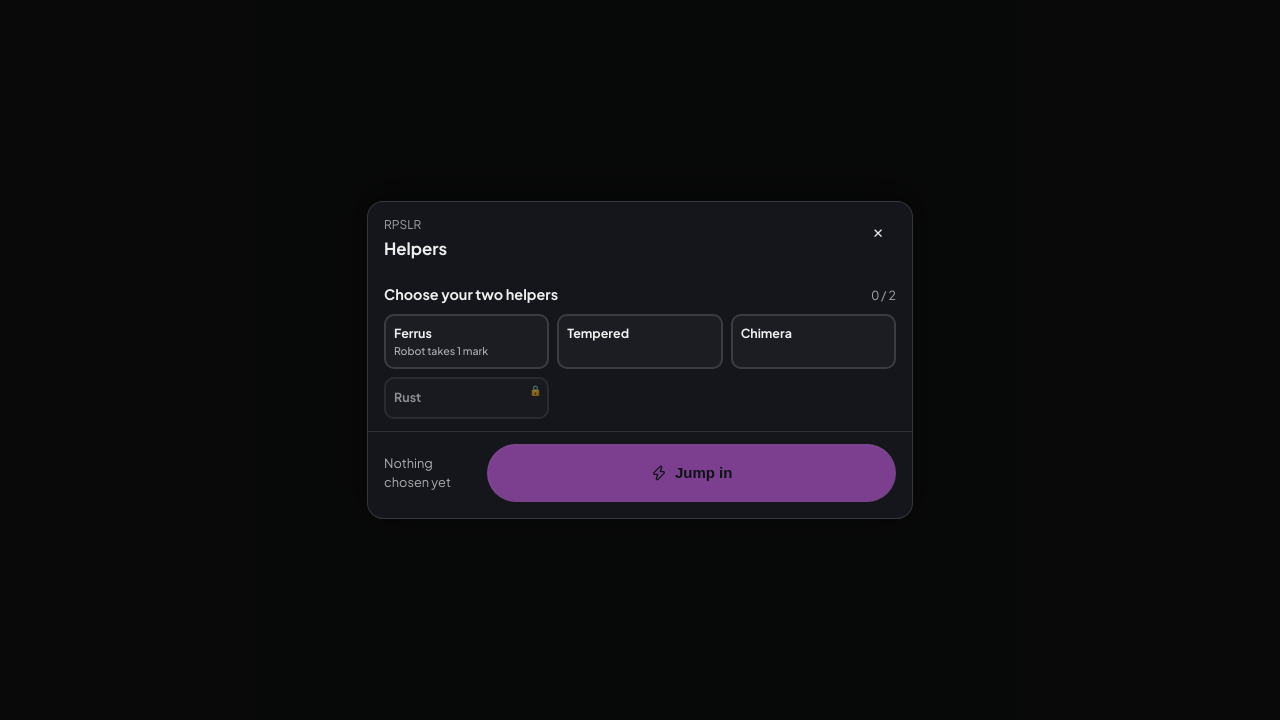
Test: PreQueueOptionsSheet › keeps the join button disabled until the group is satisfied
Expected: the button "Jump in" is disabled, [487, 444, 896, 502]
Click the button "Ferrus Robot takes 1 mark" at (467, 341), box [384, 314, 549, 369]
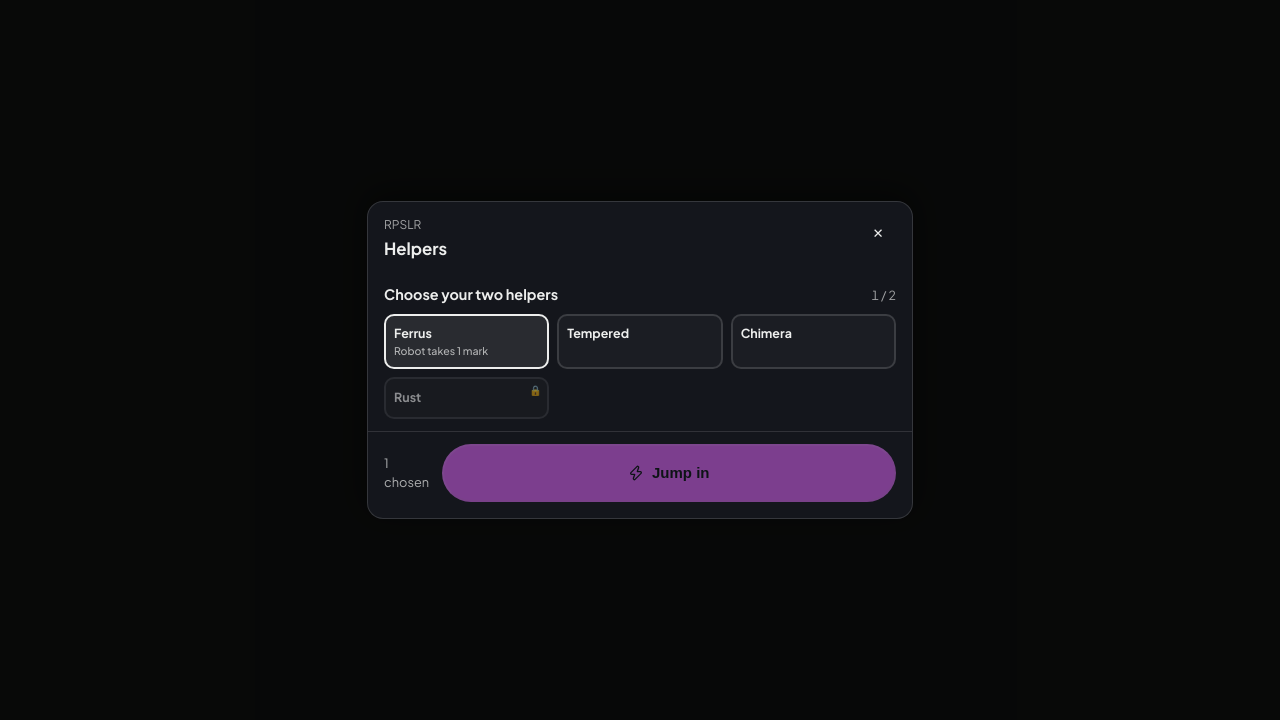
Expected: the button "Jump in" is disabled, [442, 444, 896, 502]
Click the button "Tempered" at (640, 341), box [557, 314, 723, 369]
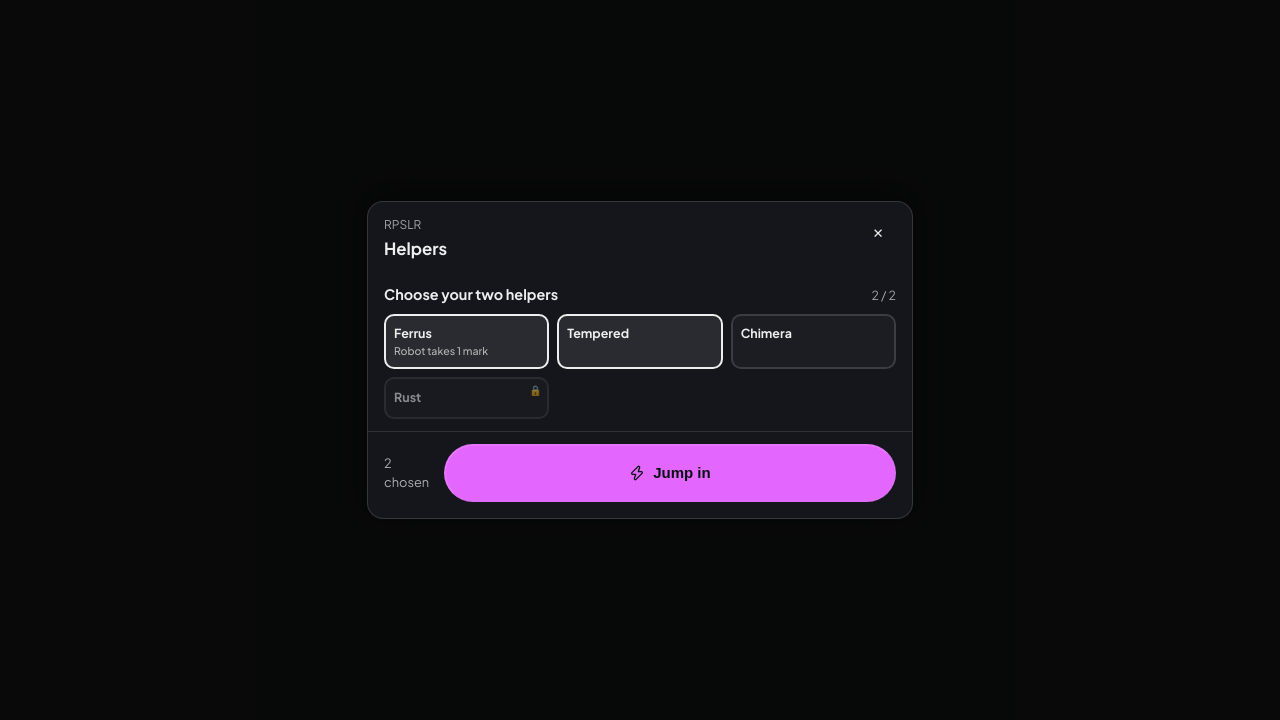
Now the button "Jump in" is enabled, box [444, 444, 896, 502]
